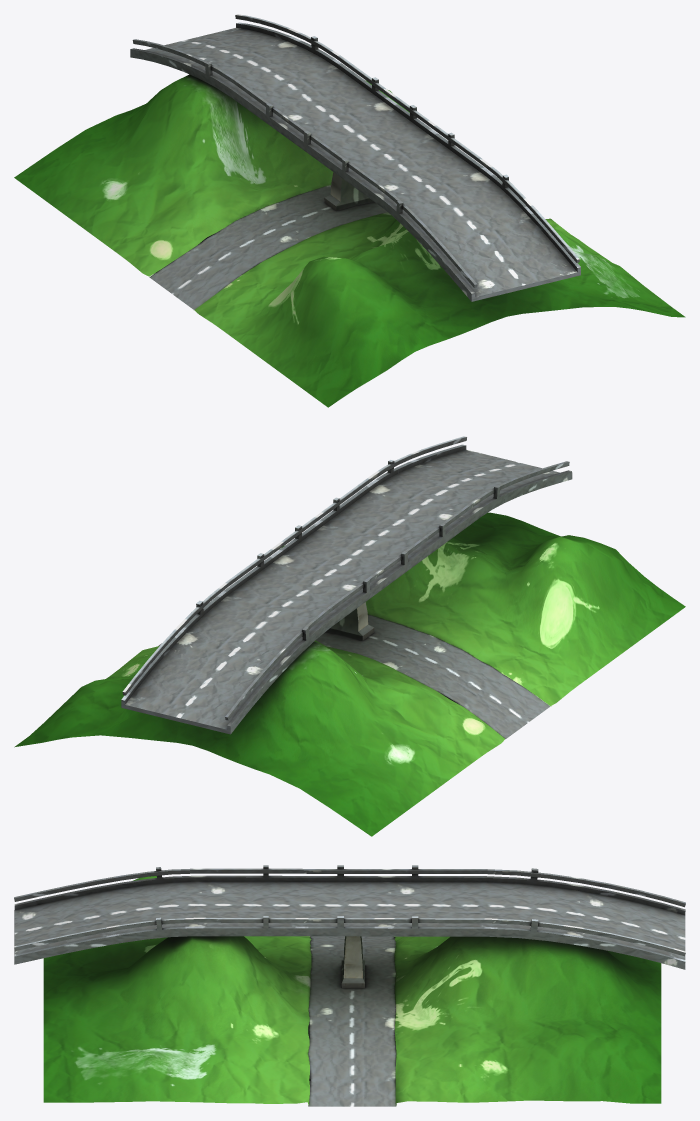
Rendered from modulo_campagna_B.FBX.
3 views of the same model, one above another, from view 1: azimuth 30°, elevation 25°; view 2: azimuth 150°, elevation 25°; view 3: azimuth 270°, elevation 25° (orthographic).
Parts seen in each view (by area): view 1: modulo_campagna_B, Object001; view 2: modulo_campagna_B, Object001; view 3: modulo_campagna_B, Object001.
Boxes of the visible parts, bbox=[...] form: modulo_campagna_B: bbox=[14, 74, 685, 407]; Object001: bbox=[130, 14, 580, 301]; modulo_campagna_B: bbox=[14, 512, 685, 836]; Object001: bbox=[121, 436, 572, 734]; modulo_campagna_B: bbox=[43, 876, 661, 1106]; Object001: bbox=[14, 865, 685, 988].
Size of the model in its own units: 201 by 72.18 by 333.
